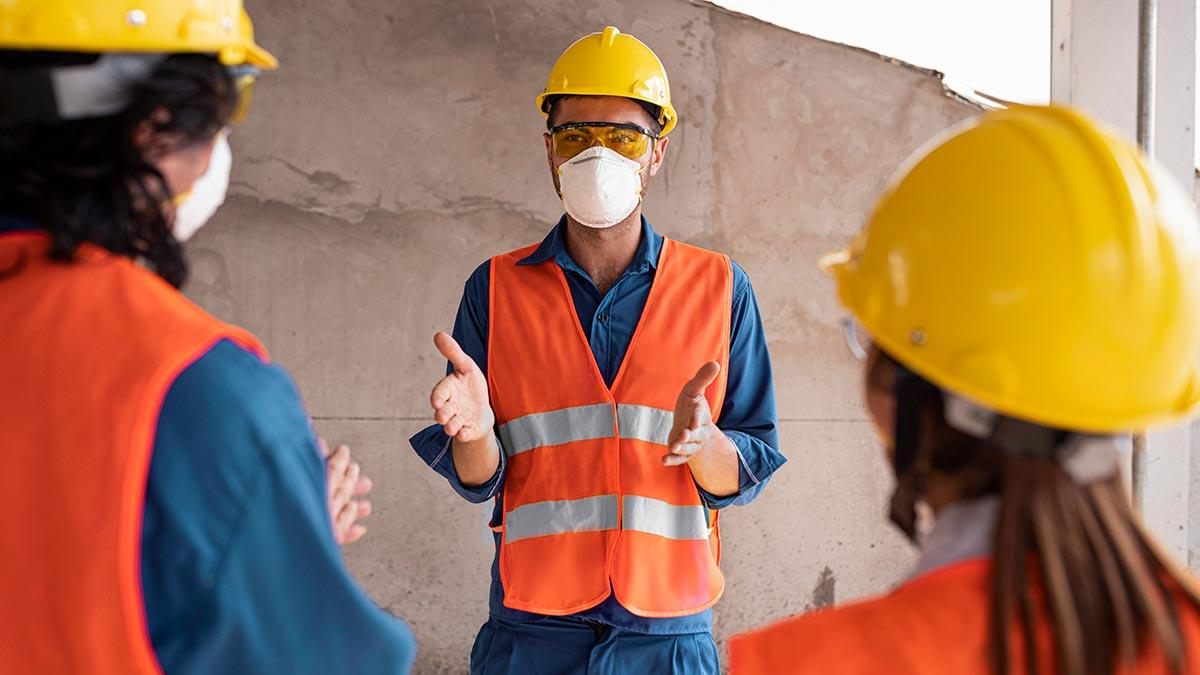hat: (838, 74, 1200, 513), (1, 1, 313, 134), (518, 1, 744, 143)
vest: (1, 191, 323, 675), (461, 191, 754, 651), (704, 519, 1200, 675)
